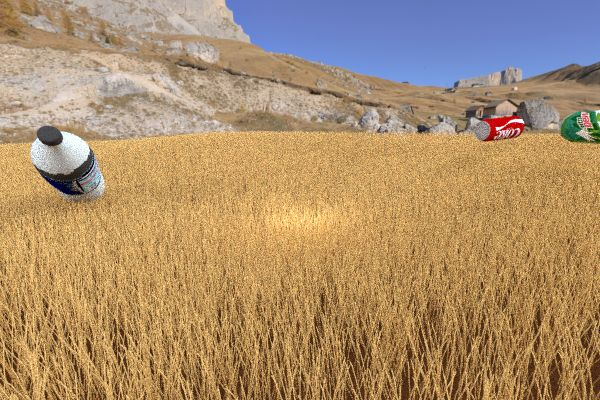Plastic Bottle: (30, 125, 104, 204), (559, 108, 600, 145), (473, 115, 524, 141)
